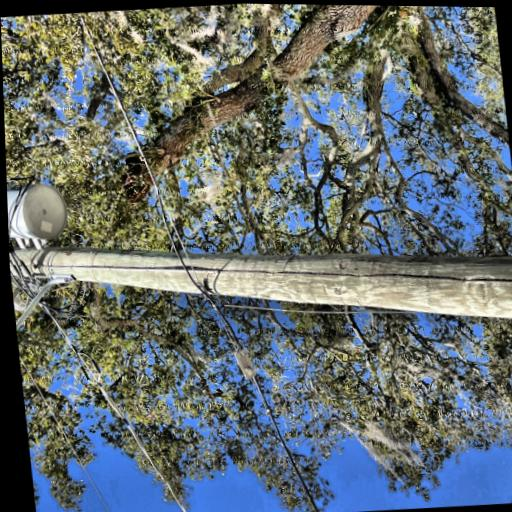pole: (4, 43, 188, 512)
street light: (1, 30, 122, 210)
transformer: (140, 102, 203, 202)
